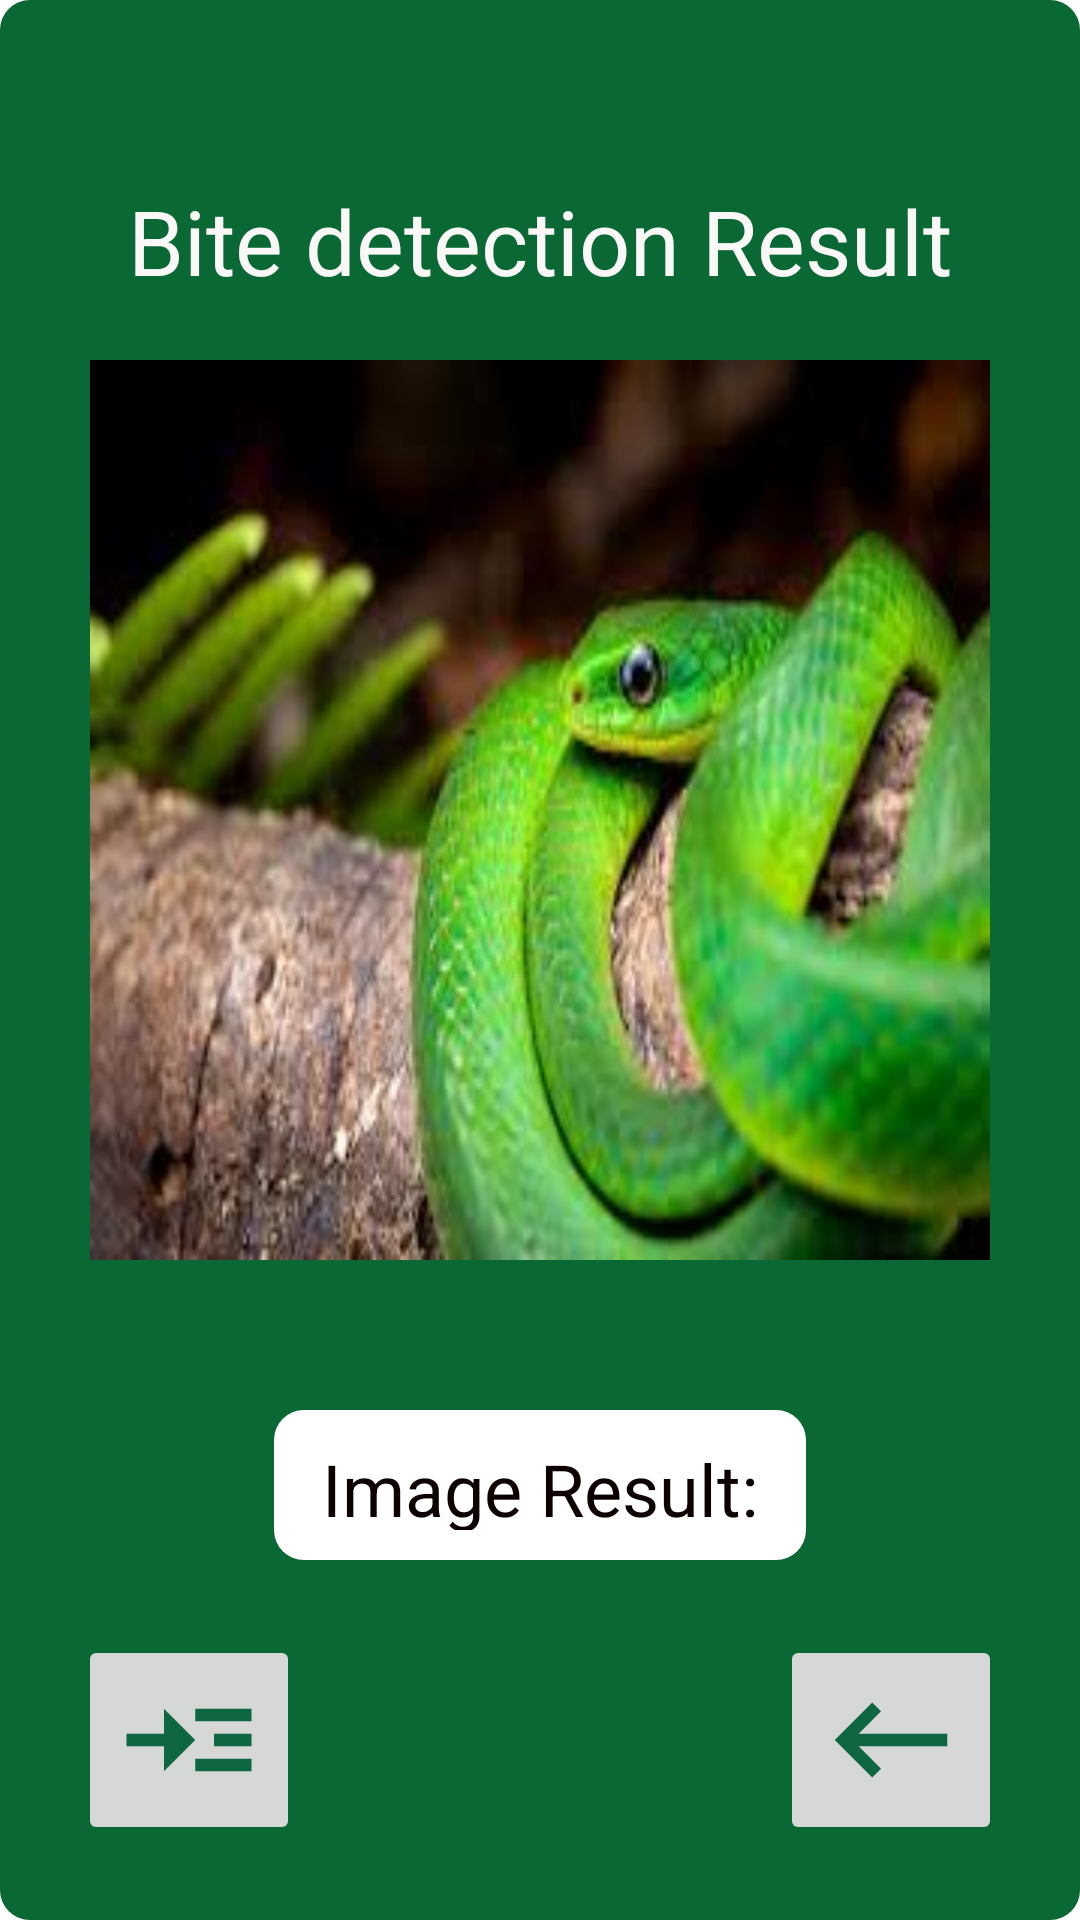

Where icons sit on this 1080 x 1920 app screen, as detection(x1, y1, x2, y2):
back: detection(792, 1653, 990, 1827)
